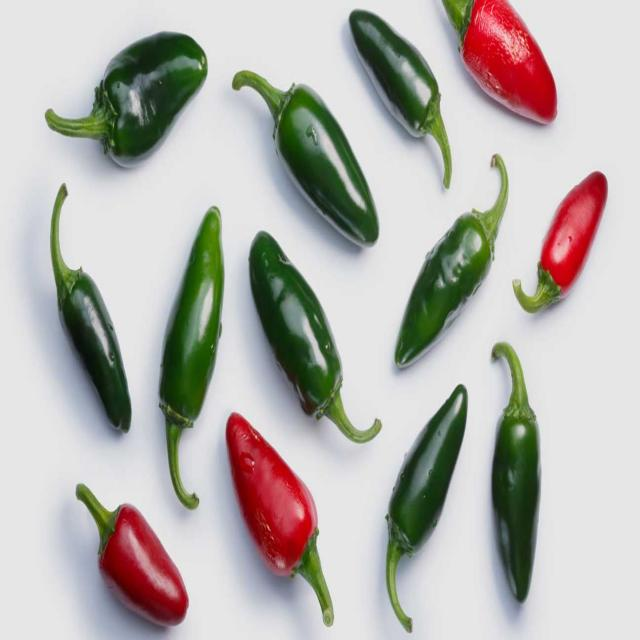aji: (230, 401, 339, 640), (31, 208, 144, 432), (72, 466, 212, 638), (252, 220, 360, 441), (443, 0, 582, 153), (393, 197, 508, 373), (393, 396, 485, 598), (359, 12, 467, 174), (486, 378, 564, 600), (73, 24, 203, 154), (276, 67, 374, 232), (170, 225, 243, 426), (533, 160, 631, 306)
